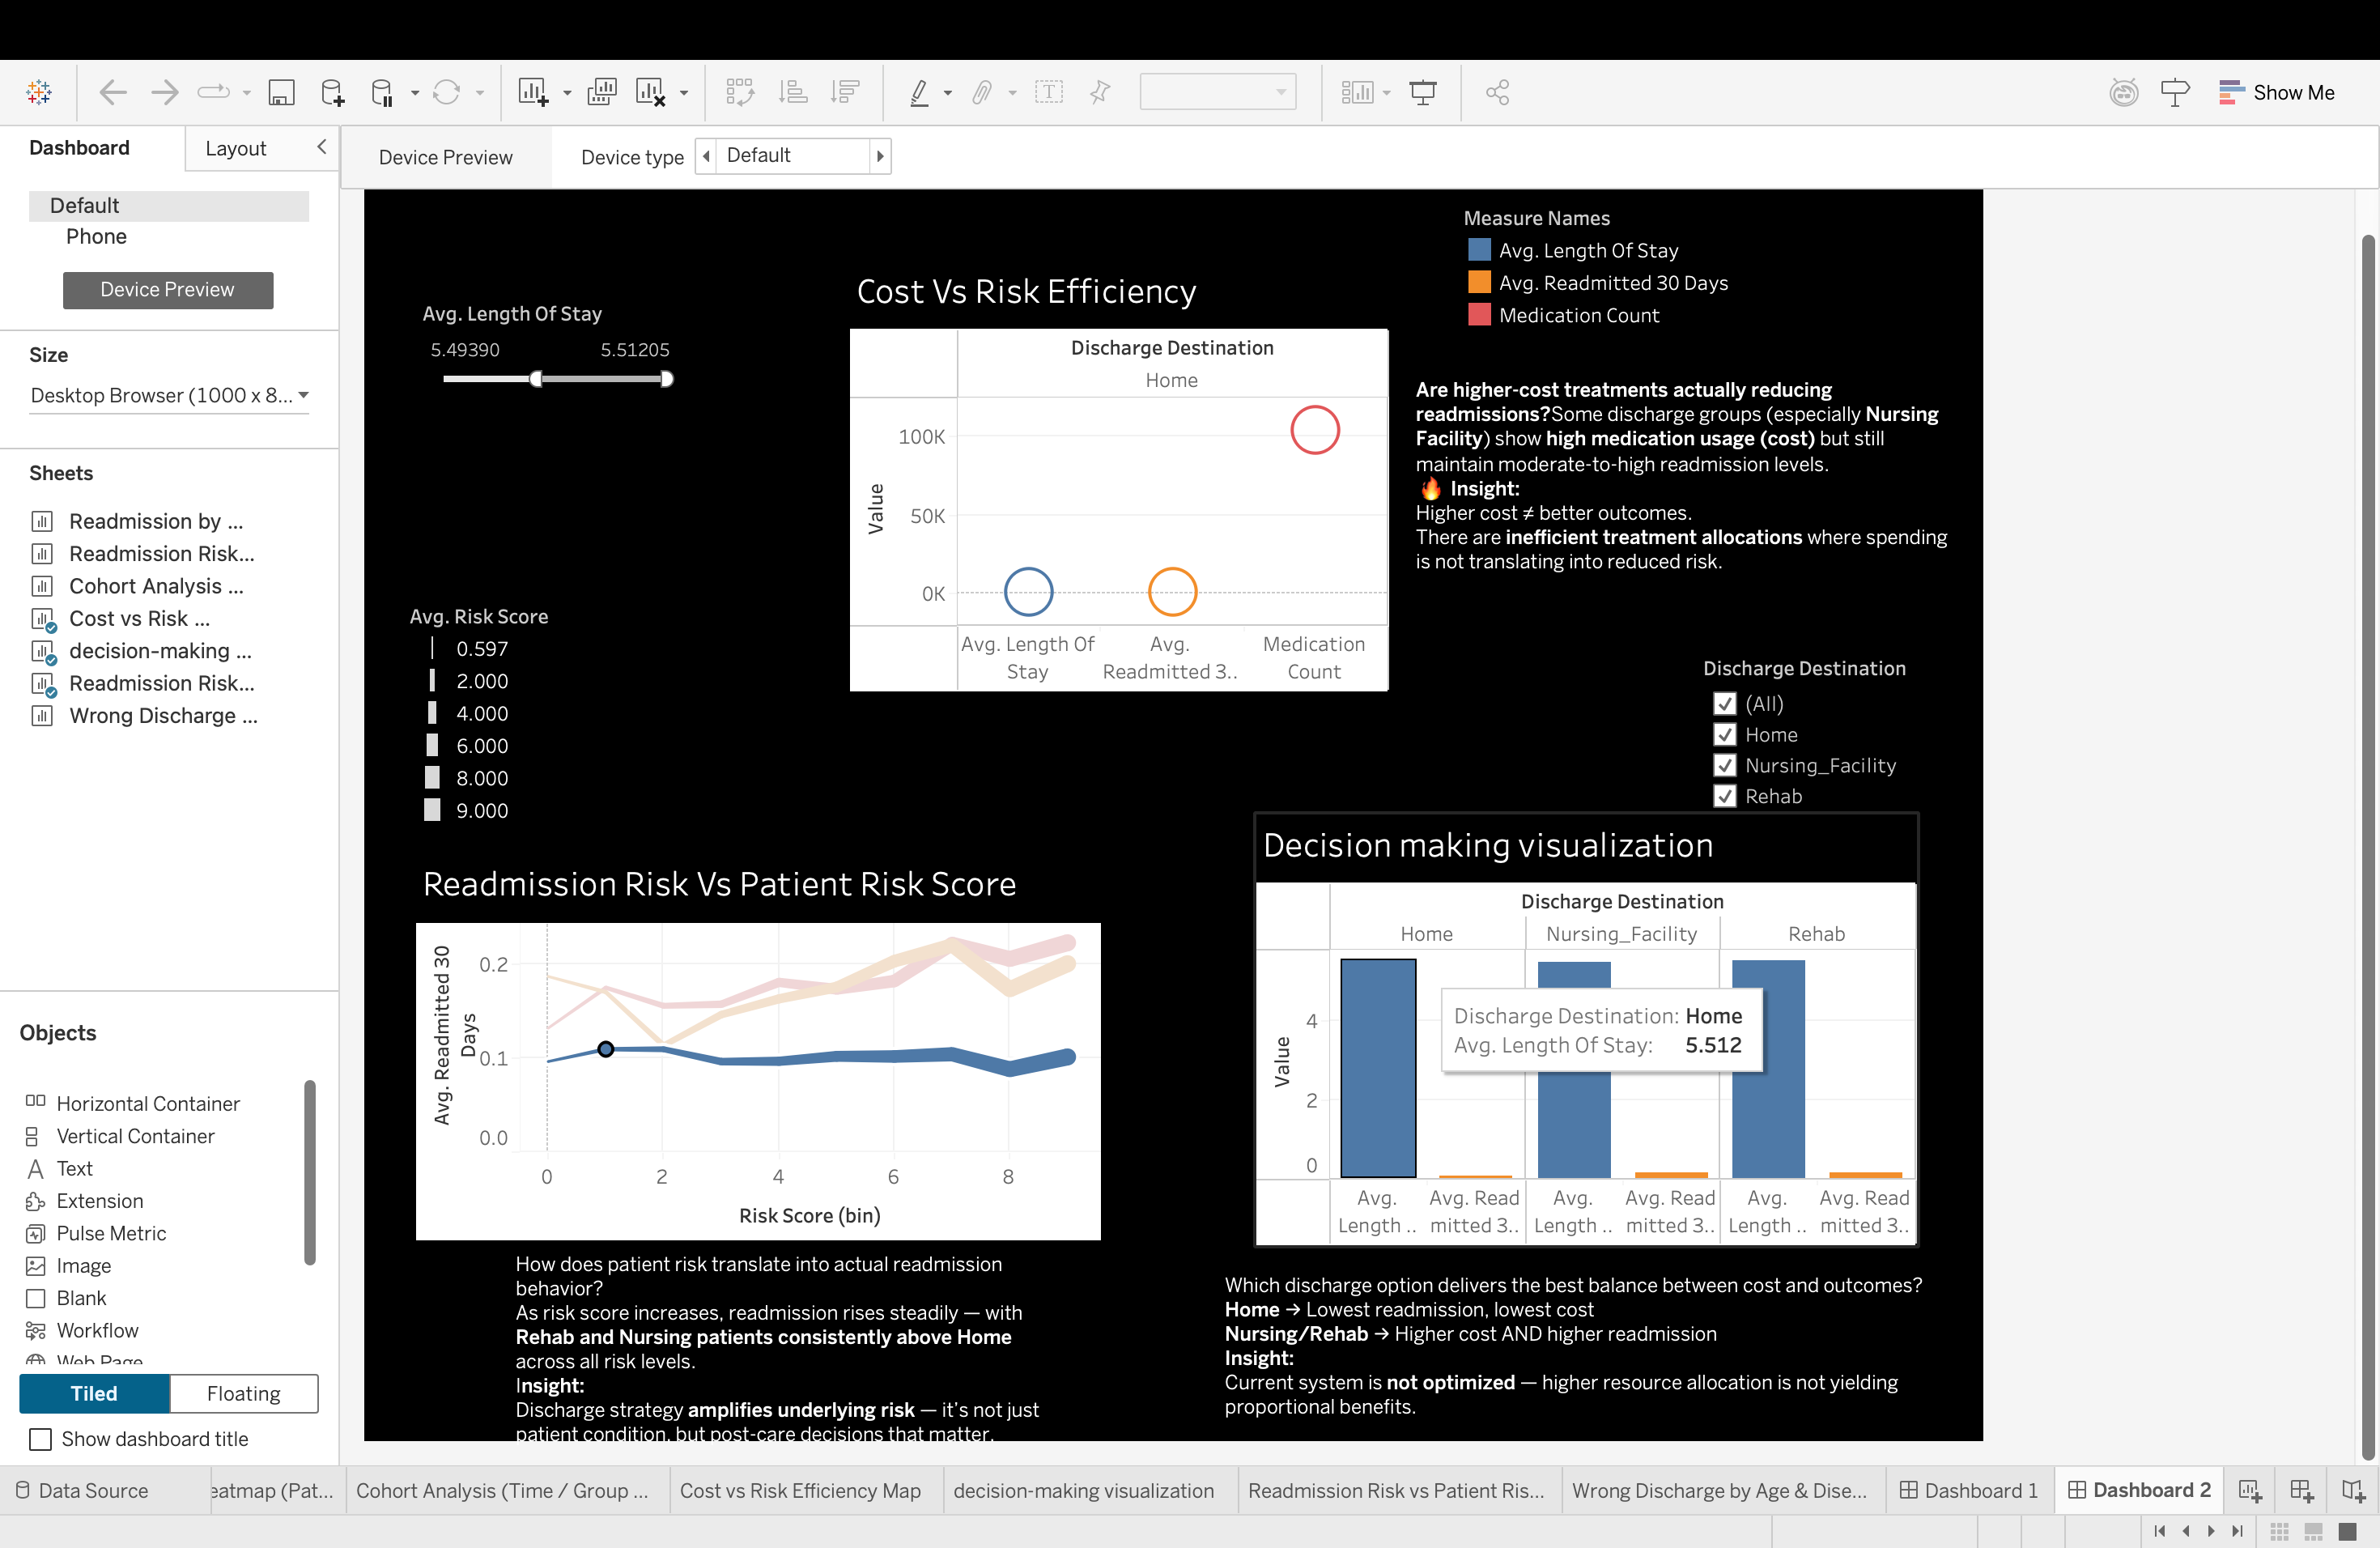

This screenshot's page, from the dashboard's own definition file:
{"tool":"tableau","page":{"name":"Dashboard 2","canvas":[1000,800],"ordinal":1},"visuals":[{"type":"legend","title":"Cost vs Risk Efficiency Map","param":"[federated.0xs7bht16vtc711ei842v1f6q77y].[:Measure Names]","box":[679,36,168,78]},{"type":"worksheet","title":"Cost vs Risk Efficiency Map","mark":"Shape","cols":["discharge_destination"],"box":[300,71,333,266]},{"type":"filter","title":"Cost vs Risk Efficiency Map","param":"[federated.0xs7bht16vtc711ei842v1f6q77y].[avg:length_of_stay:qk]","box":[36,95,160,61]},{"type":"text","box":[647,136,333,143]},{"type":"legend","title":"Readmission Risk vs Patient Risk Score”","param":"[federated.0xs7bht16vtc711ei842v1f6q77y].[avg:Calculation_0898432490336270:qk]","box":[28,282,140,138]},{"type":"filter","title":"decision-making visualization","param":"[federated.0xs7bht16vtc711ei842v1f6q77y].[none:discharge_destination:nk]","box":[827,314,160,100]},{"type":"worksheet","title":"decision-making visualization","mark":"Automatic","cols":["discharge_destination"],"box":[551,413,408,266]},{"type":"worksheet","title":"Readmission Risk vs Patient Risk Score”","mark":"Line","rows":["readmitted_30_days"],"cols":["Risk Score (bin)"],"box":[32,437,423,239]},{"type":"text","box":[529,693,467,101]}]}

Visuals, with their boxes on the page's 1000x800 design canvas (x1, y1, x2, y2). These are canvas units, not pixel positions in the 2380x1548 screenshot, which may show the page scaled, cropped or inside an application window:
"Cost vs Risk Efficiency Map" legend: 679 36 847 114
"Cost vs Risk Efficiency Map" worksheet (Shape marks): 300 71 633 337
"Cost vs Risk Efficiency Map" filter: 36 95 196 156
text: 647 136 980 279
"Readmission Risk vs Patient Risk Score”" legend: 28 282 168 420
"decision-making visualization" filter: 827 314 987 414
"decision-making visualization" worksheet: 551 413 959 679
"Readmission Risk vs Patient Risk Score”" worksheet (Line marks): 32 437 455 676
text: 529 693 996 794
